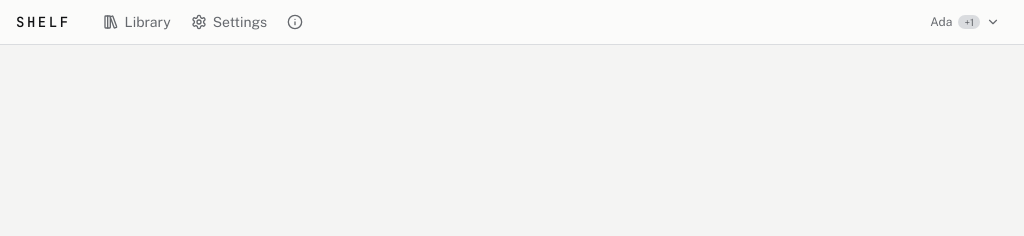
Test: account menu › opens the switcher
The width and height of the screenshot is (1024, 236).
Click the button "Ada +1" at (965, 22), box [922,10,1008,34]
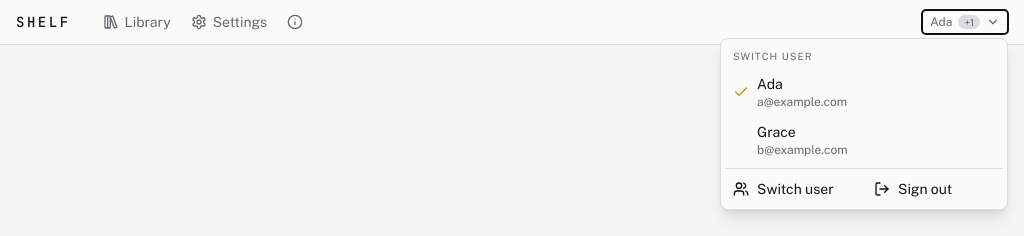
expect the menu is shown: met, box [720,38,1008,210]
expect the menu item "Switch user" is shown: met, box [733,181,834,197]
expect the menu item "Sign out" is shown: met, box [866,173,1003,205]
